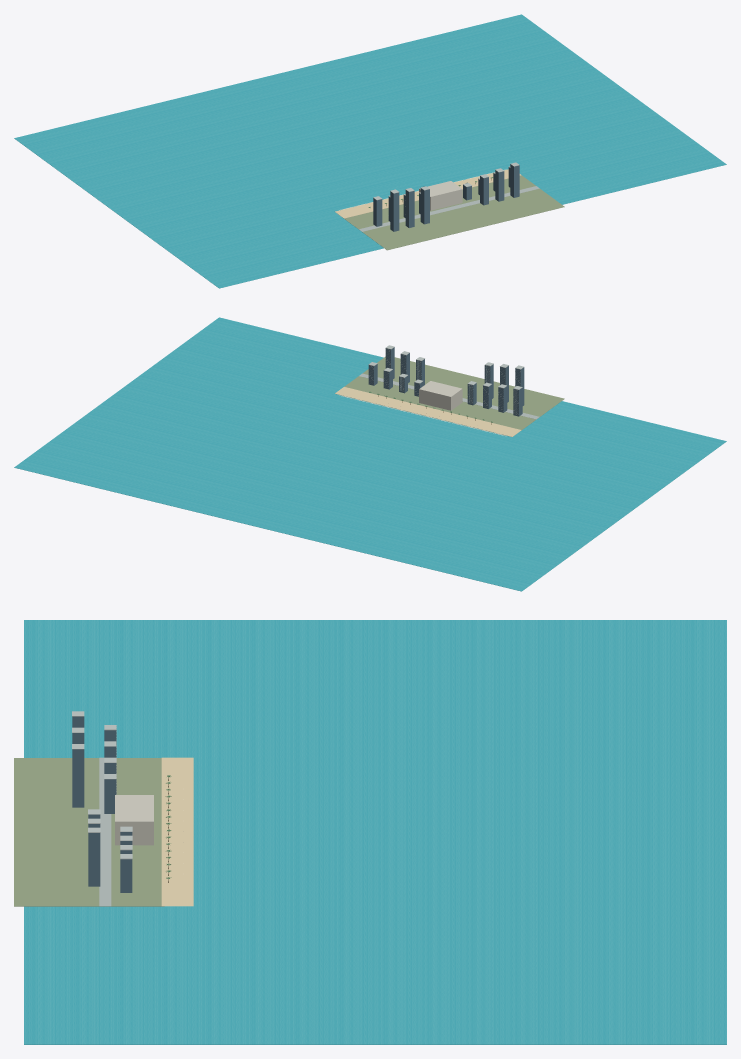
The model's file is coastal-exterior.glb.
The picture shows the model from 3 angles, top to bottom: view 1: azimuth 30°, elevation 25°; view 2: azimuth 150°, elevation 25°; view 3: azimuth 270°, elevation 25°; orthographic projection. The views are drawn at different scales.
Parts seen in each view (by area): view 1: Turquoise_Ocean.001, Mesh_79.001, Mesh_81.001, Sunshine_Sandy_Beach.001, Mesh_80.001; view 2: Turquoise_Ocean.001, Mesh_79.001, Sunshine_Sandy_Beach.001, Mesh_81.001; view 3: Turquoise_Ocean.001, Mesh_79.001, Sunshine_Sandy_Beach.001, Mesh_81.001, Mesh_80.001, Mesh_83.017, Mesh_83.024.
Boxes of the visible parts, left/top/right/bottom form: Turquoise_Ocean.001: left=14, top=14, right=726, bottom=288; Mesh_79.001: left=344, top=175, right=564, bottom=250; Mesh_81.001: left=419, top=181, right=462, bottom=210; Sunshine_Sandy_Beach.001: left=335, top=169, right=521, bottom=218; Mesh_80.001: left=359, top=186, right=539, bottom=231; Turquoise_Ocean.001: left=14, top=317, right=726, bottom=591; Mesh_79.001: left=344, top=356, right=564, bottom=430; Sunshine_Sandy_Beach.001: left=335, top=387, right=521, bottom=436; Mesh_81.001: left=419, top=381, right=462, bottom=410; Turquoise_Ocean.001: left=24, top=620, right=726, bottom=1044; Mesh_79.001: left=14, top=758, right=164, bottom=906; Sunshine_Sandy_Beach.001: left=161, top=757, right=193, bottom=906; Mesh_81.001: left=115, top=795, right=153, bottom=845; Mesh_80.001: left=99, top=757, right=111, bottom=906; Mesh_83.017: left=72, top=749, right=84, bottom=807; Mesh_83.024: left=88, top=833, right=100, bottom=886.
Bounding box in the file's own units: 1000 × 73.25 × 710.
14 materials, 2 textured.
